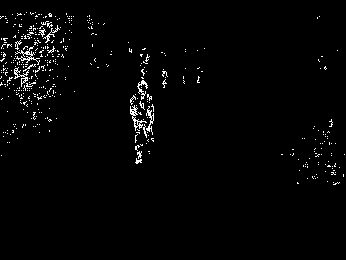person: (131, 80, 154, 164)
